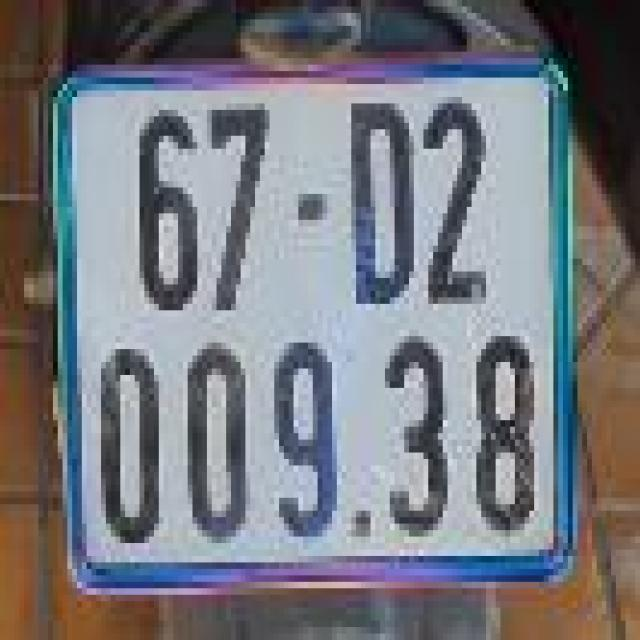0: (175, 333, 258, 546), (94, 336, 166, 543)
2: (426, 78, 493, 310)
3: (378, 326, 460, 546)
6: (128, 94, 205, 320)
7: (212, 84, 269, 323)
8: (467, 317, 544, 549)
9: (270, 317, 346, 543)
D: (342, 97, 424, 310)
